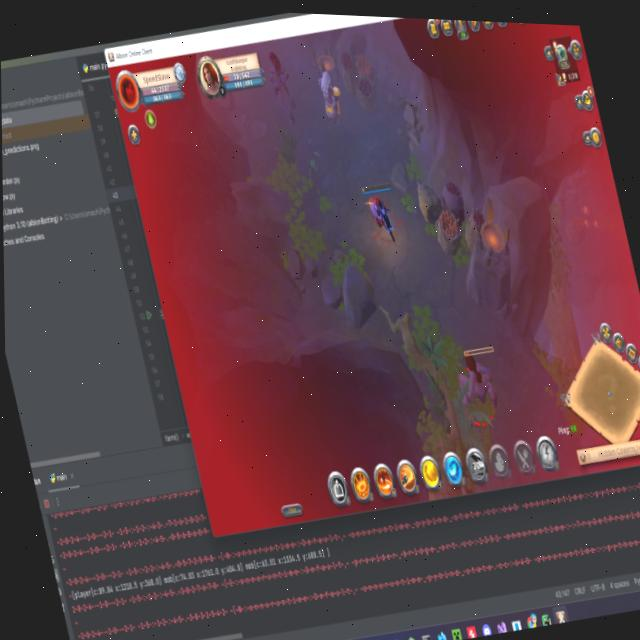ore: (437, 331, 520, 434), (258, 44, 308, 135), (311, 60, 351, 137)
red: (354, 175, 412, 261)
